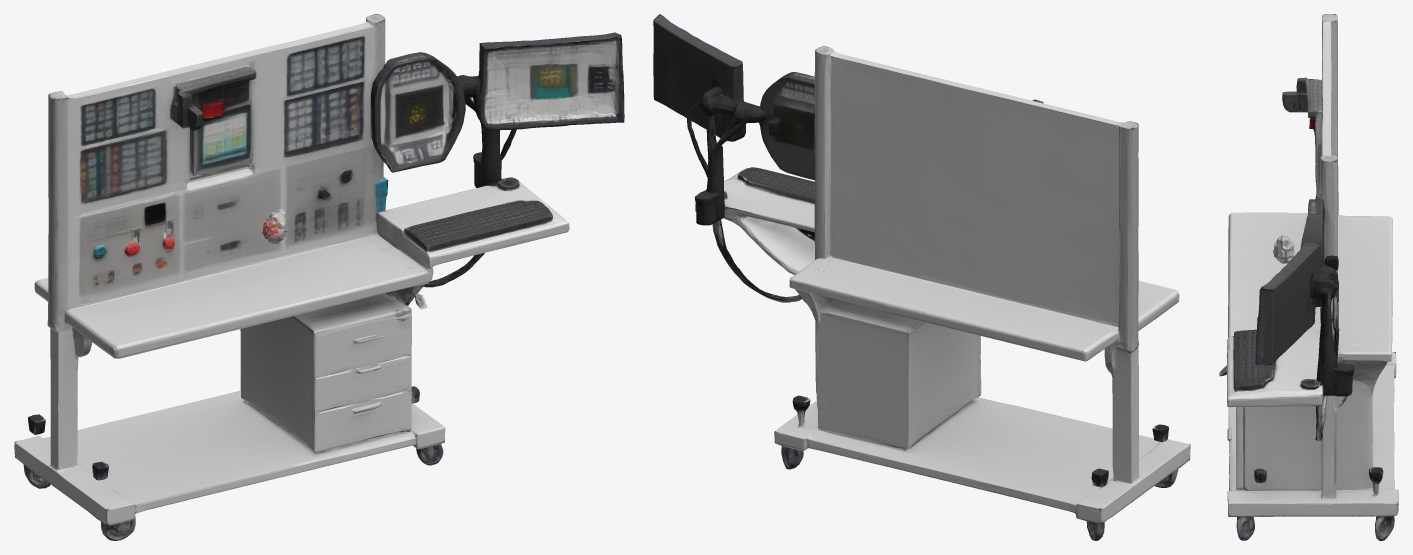
Rendered from Hytech Advanced PLC & HMI Training Kit.glb.
3 renders of one model, left to right at view 1: azimuth 30°, elevation 25°; view 2: azimuth 150°, elevation 25°; view 3: azimuth 270°, elevation 25°, orthographic. The views are drawn at different scales.
Parts seen in each view (by area): view 1: world; view 2: world; view 3: world.
Boxes of the visible parts, left/top/right/bottom form: world: left=14, top=14, right=624, bottom=540; world: left=653, top=14, right=1190, bottom=540; world: left=1219, top=14, right=1398, bottom=540.
Bounding box in the file's own units: 1 × 0.7438 × 0.3199.
Materials: 1 (1 with a texture image).
